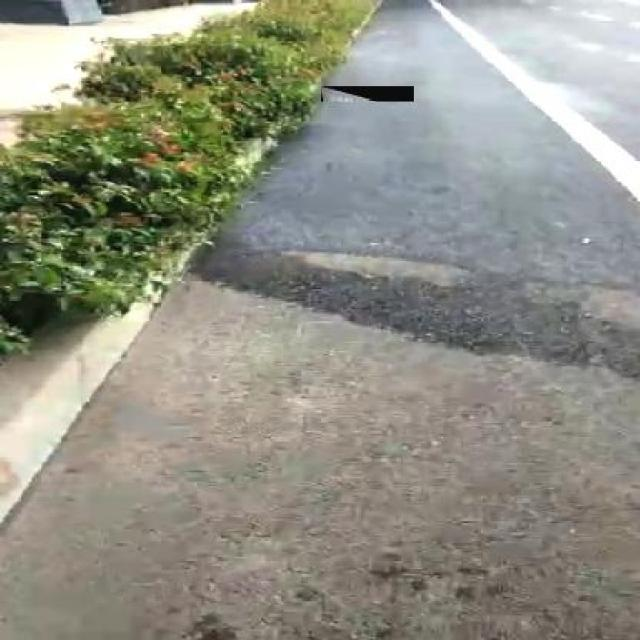Manhole: (320, 86, 414, 102)
